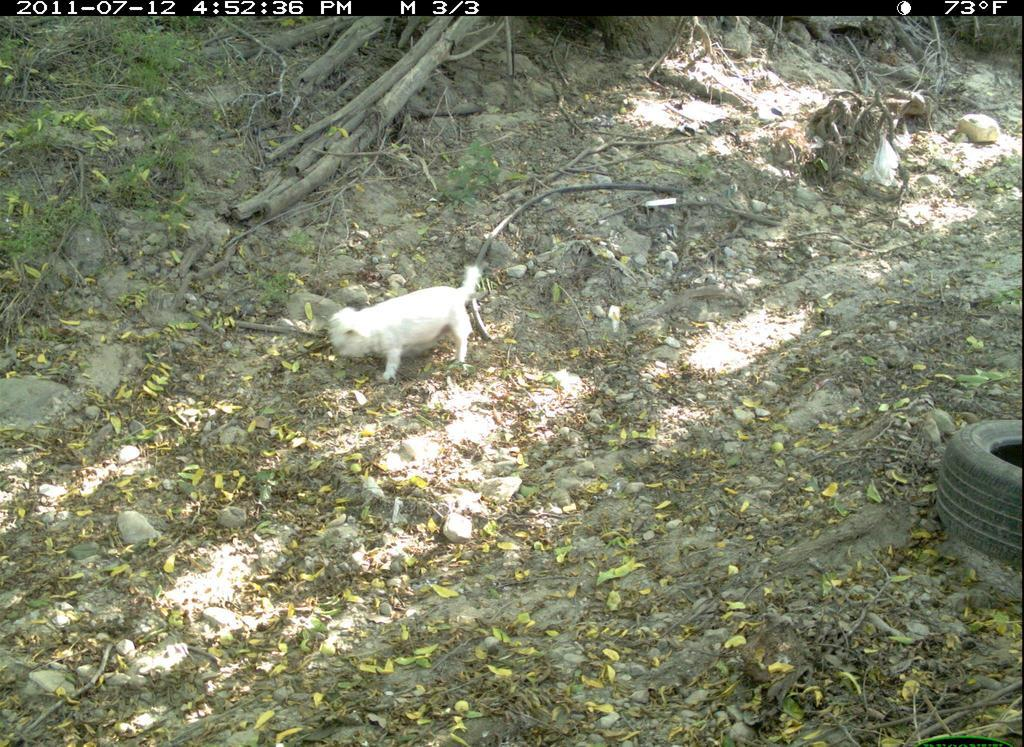dog: (312, 259, 500, 396)
